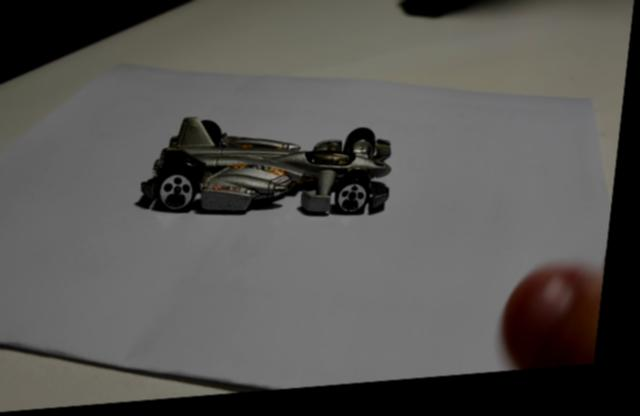05_DC121: (140, 121, 396, 224)
